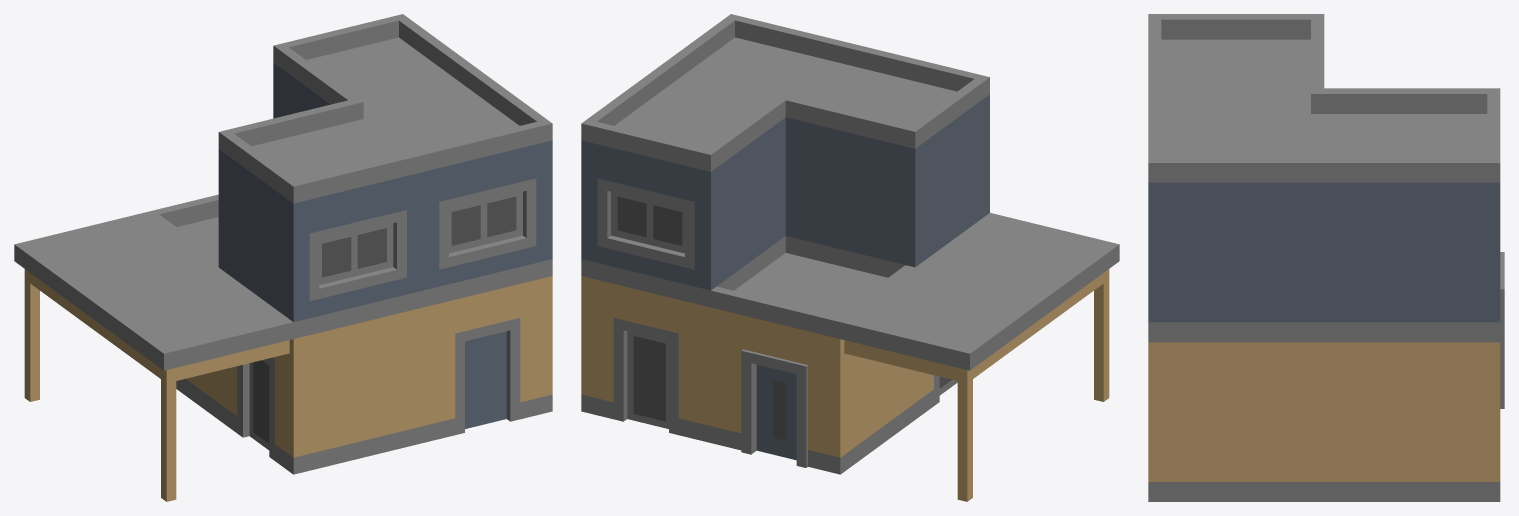
The model's file is SM_Suburb_House_018.fbx.
3 views of the same model, side by side, from view 1: azimuth 30°, elevation 25°; view 2: azimuth 150°, elevation 25°; view 3: azimuth 270°, elevation 25° (orthographic). The views are drawn at different scales.
Visible parts, largest first — view 1: SM_Suburb_House_018; view 2: SM_Suburb_House_018; view 3: SM_Suburb_House_018.
Part boxes in pixels (left/top/right/bottom): SM_Suburb_House_018: left=14, top=14, right=552, bottom=501; SM_Suburb_House_018: left=581, top=14, right=1119, bottom=501; SM_Suburb_House_018: left=1148, top=14, right=1504, bottom=501.
Bounding box in the file's own units: 864 × 612 × 583.
